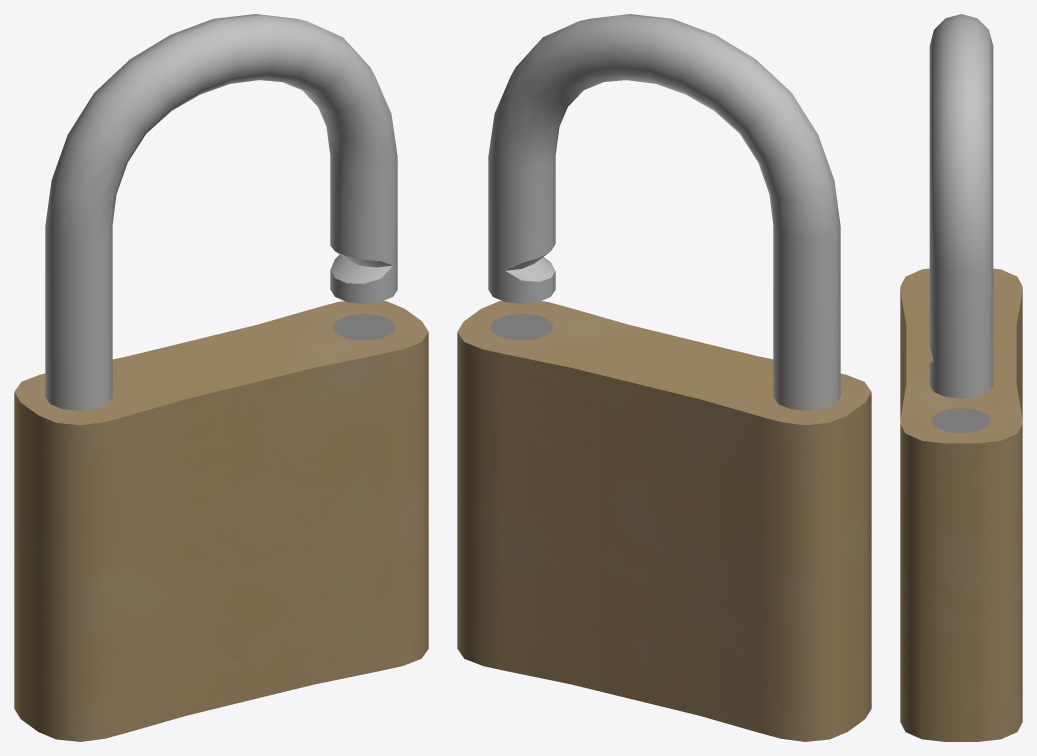
The model's file is Padlock.obj.
The picture shows the model from 3 angles, left to right: view 1: azimuth 30°, elevation 25°; view 2: azimuth 150°, elevation 25°; view 3: azimuth 270°, elevation 25°; orthographic projection. The views are drawn at different scales.
Visible parts, largest first — view 1: Padlock; view 2: Padlock; view 3: Padlock.
Boxes of the visible parts, <box> form: Padlock: <box>14,14,428,741</box>; Padlock: <box>457,14,871,741</box>; Padlock: <box>900,14,1022,741</box>.
Size of the model in its own units: 0.066 by 0.108 by 0.0193.
Materials: 1 (1 with a texture image).
